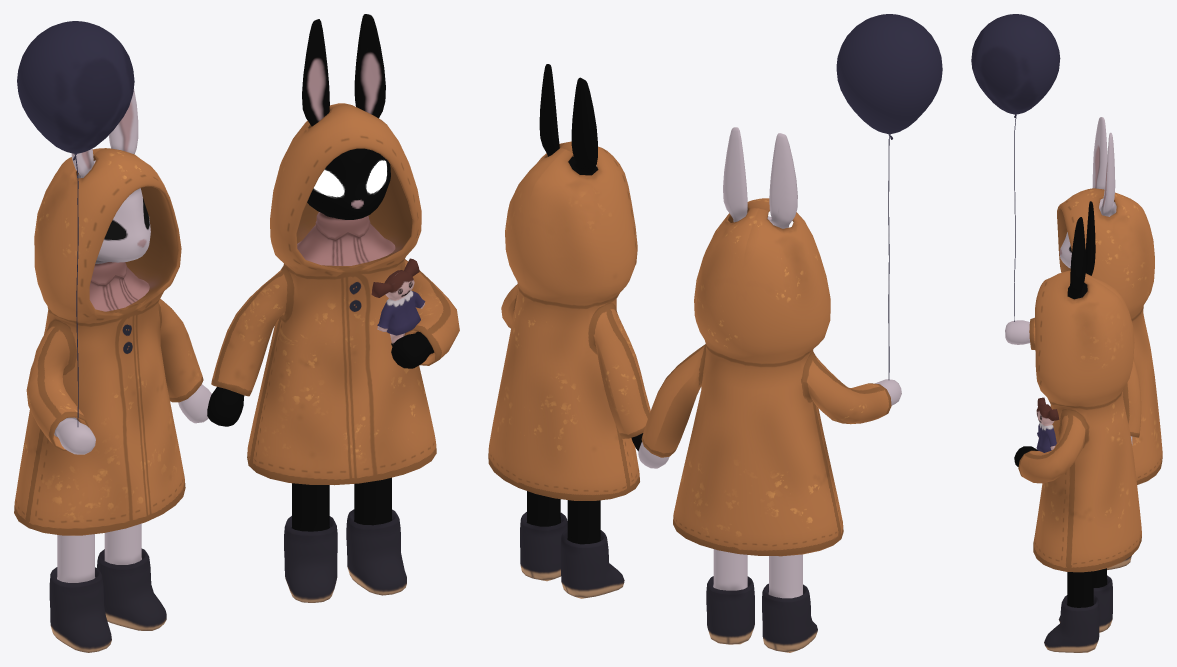
3 renders of one model, left to right at view 1: azimuth 30°, elevation 25°; view 2: azimuth 150°, elevation 25°; view 3: azimuth 270°, elevation 25°, orthographic. The views are drawn at different scales.
Parts seen in each view (by area): view 1: Bun1_0; view 2: Bun1_0; view 3: Bun1_0.
Boxes of the visible parts, x1=… form: Bun1_0: x1=14, y1=14, x2=459, y2=652; Bun1_0: x1=488, y1=14, x2=942, y2=652; Bun1_0: x1=971, y1=14, x2=1162, y2=652.
Bounding box in the file's own units: 1.01 × 1.42 × 0.4866.
4 materials, 4 textured.
